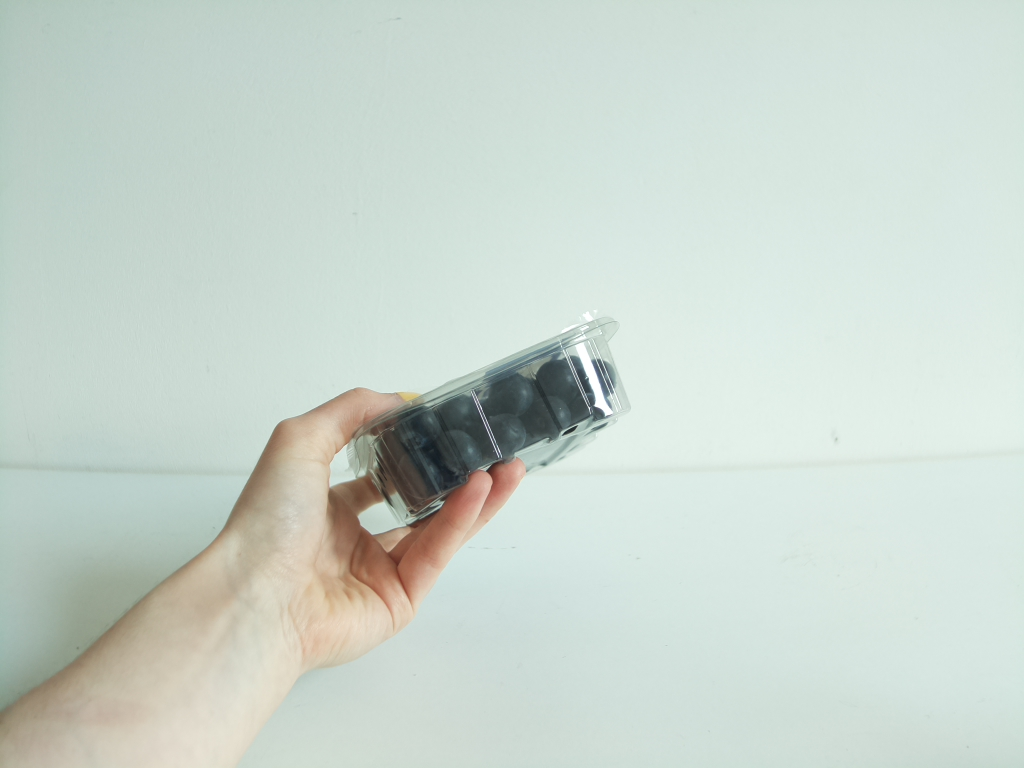soft-fruit: (359, 333, 622, 524)
